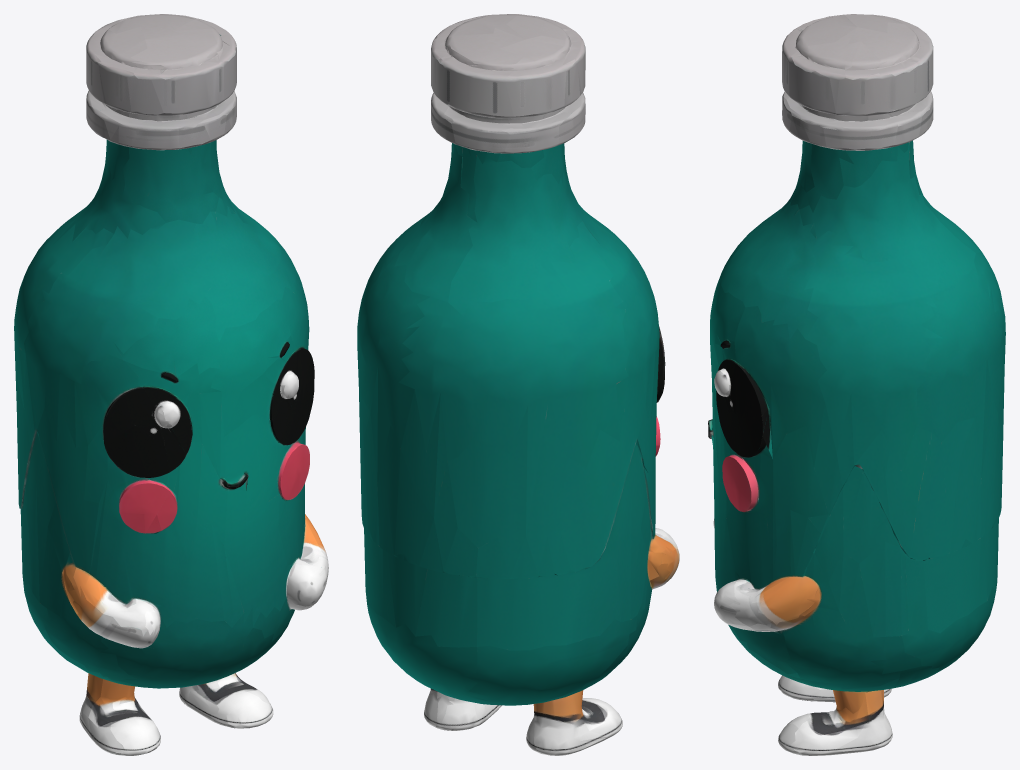
The model's file is GlassNode.fbx.
3 renders of one model, left to right at view 1: azimuth 30°, elevation 25°; view 2: azimuth 150°, elevation 25°; view 3: azimuth 270°, elevation 25°, orthographic. The views are drawn at different scales.
Visible parts, largest first — view 1: output_unwrapped; view 2: output_unwrapped; view 3: output_unwrapped.
Boxes of the visible parts, x1=… form: output_unwrapped: x1=14, y1=14, x2=328, y2=755; output_unwrapped: x1=357, y1=14, x2=679, y2=755; output_unwrapped: x1=708, y1=14, x2=1005, y2=755.
Bounding box in the file's own units: 39.44 × 100 × 39.63.
1 material, 1 textured.
